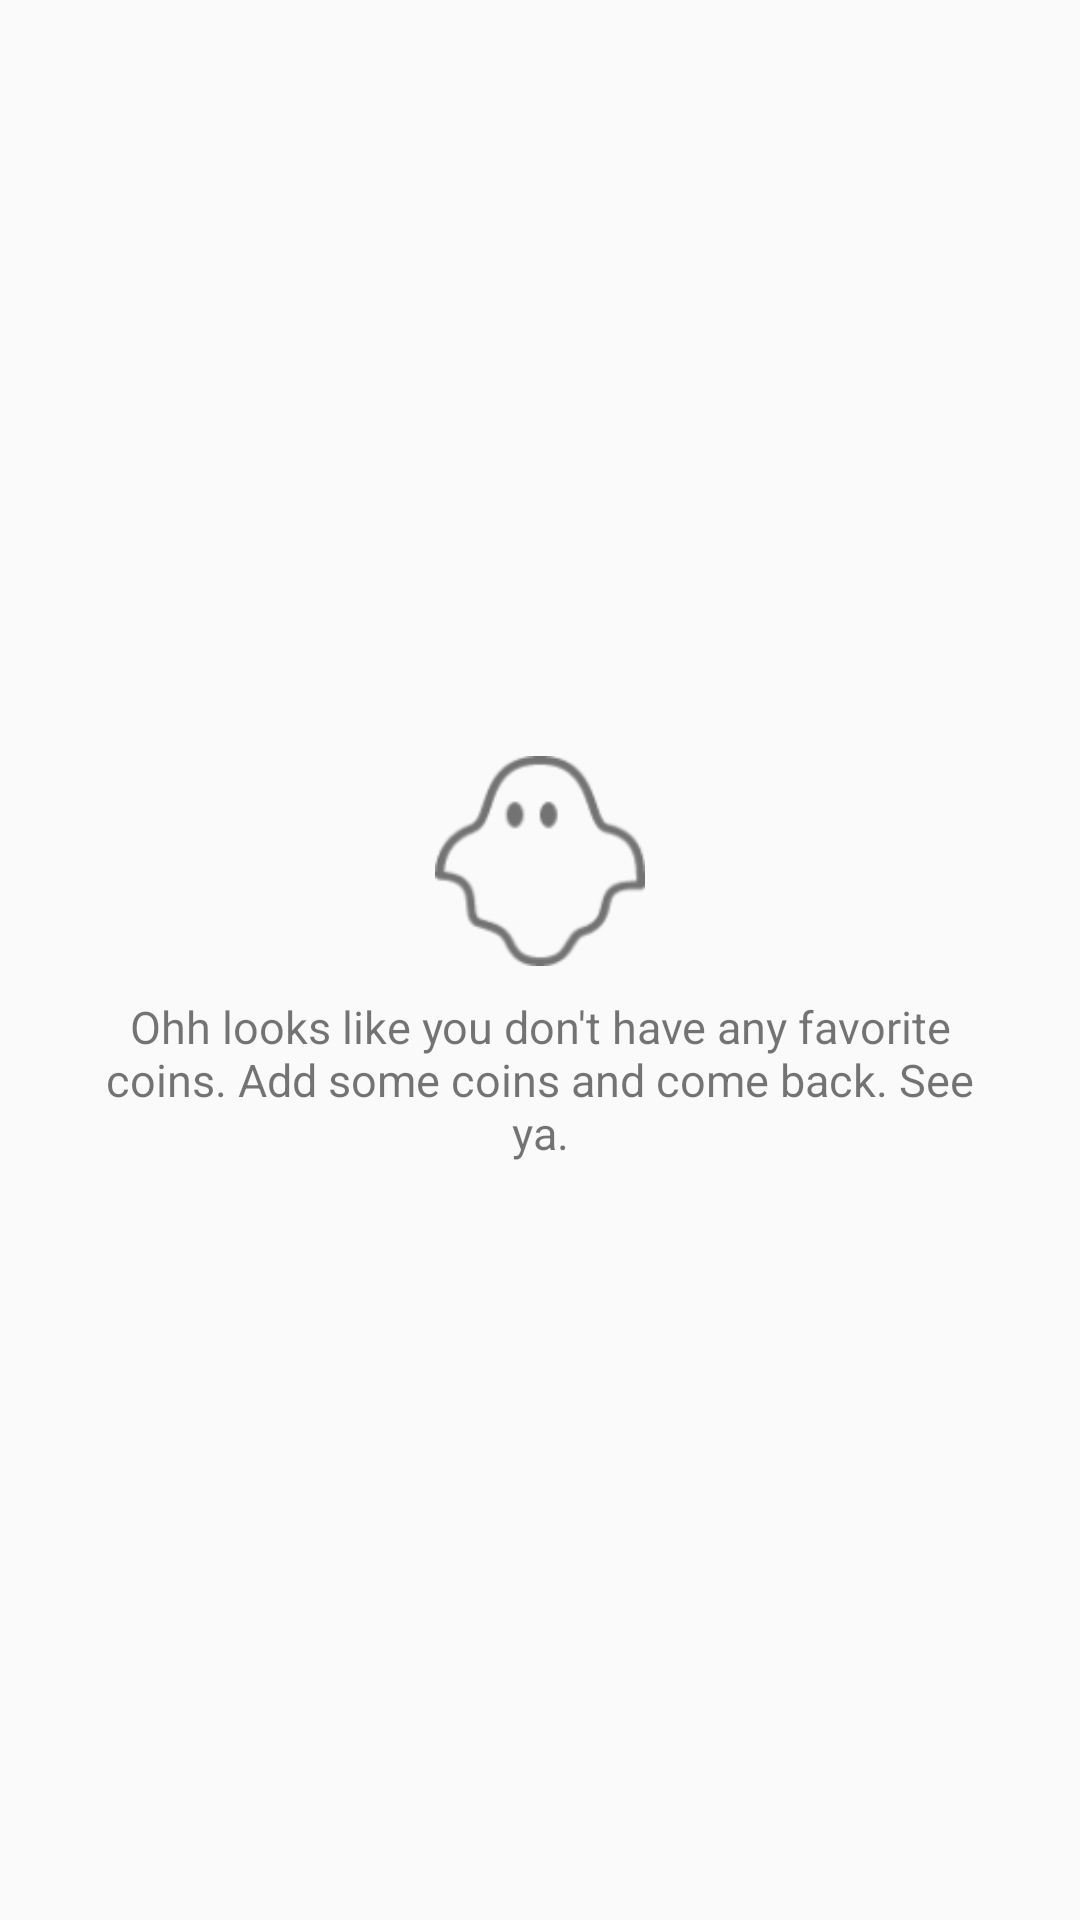

Screen size 1080w x 1920h. Icon name, then its box in pixels as region(x1, y1, x2, y2):
ghost: region(435, 756, 645, 966)
